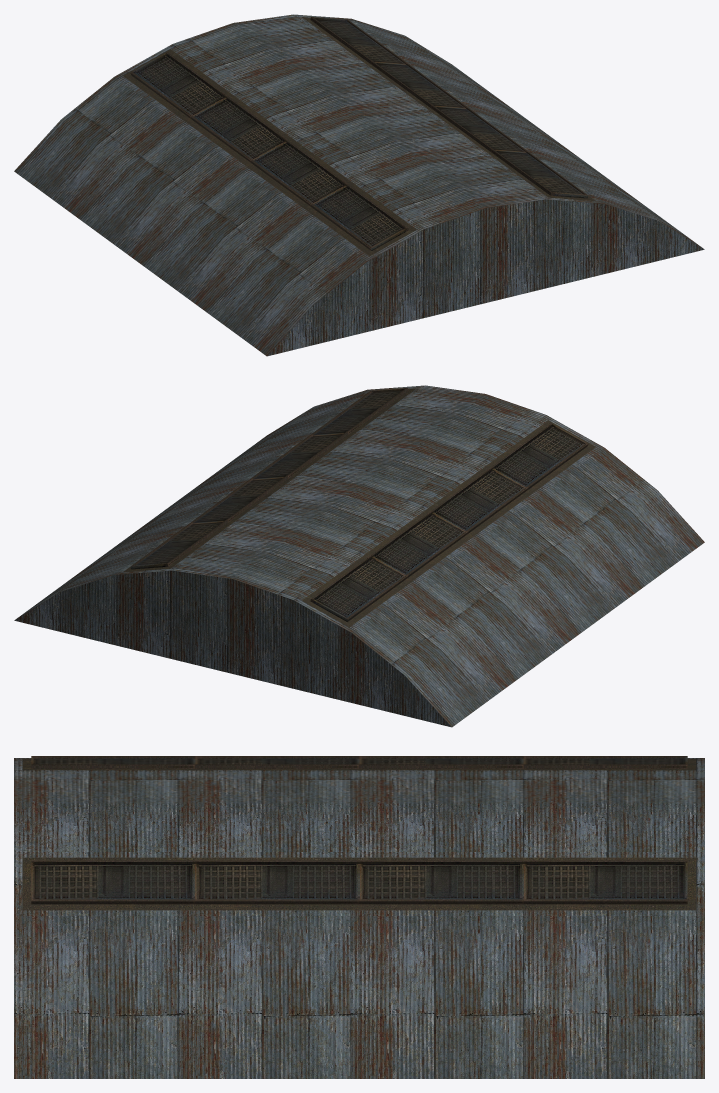
File: warehouse_hs_1_roof_2.glb
The picture shows the model from 3 angles, top to bottom: view 1: azimuth 30°, elevation 25°; view 2: azimuth 150°, elevation 25°; view 3: azimuth 270°, elevation 25°; orthographic projection. The views are drawn at different scales.
Visible parts, largest first — view 1: warehouse_hs_1_roof_2; view 2: warehouse_hs_1_roof_2; view 3: warehouse_hs_1_roof_2.
Boxes of the visible parts, bbox=[...] form: warehouse_hs_1_roof_2: bbox=[14, 14, 704, 356]; warehouse_hs_1_roof_2: bbox=[14, 385, 704, 727]; warehouse_hs_1_roof_2: bbox=[14, 756, 704, 1078].
Bounding box in the file's own units: 8 × 1.66 × 8.
3 materials, 3 textured.
